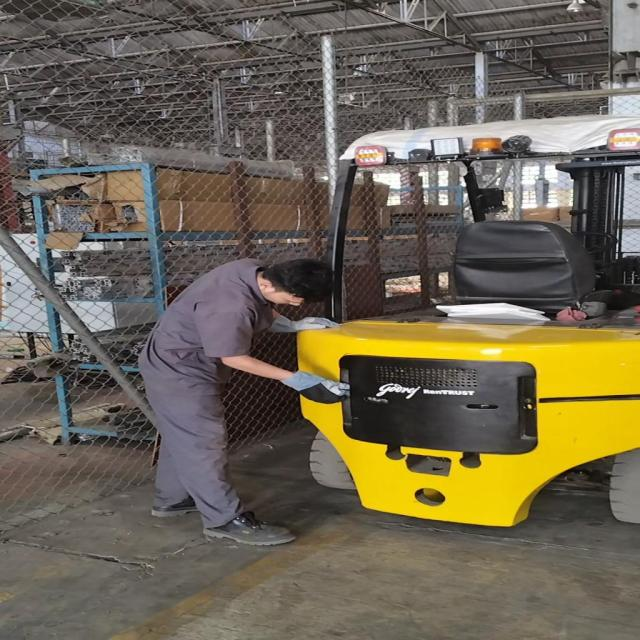Gloves-Detection: (282, 369, 350, 408), (266, 314, 346, 338)
